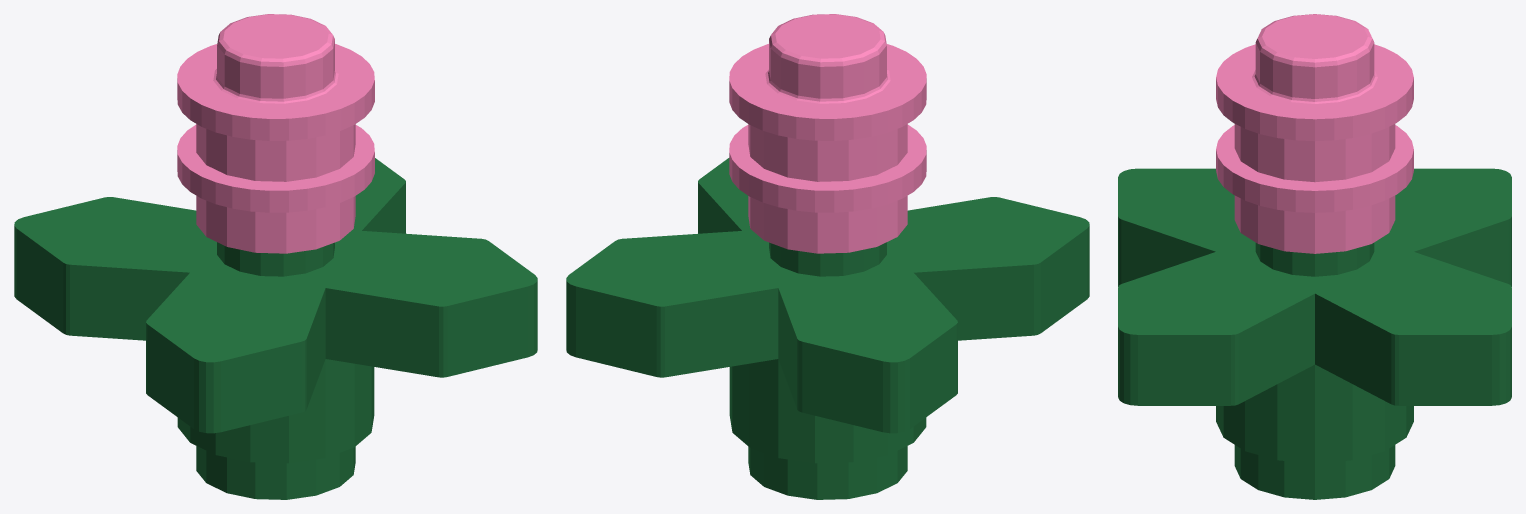
File: flower_pink.glb
3 views of the same model, side by side, from view 1: azimuth 30°, elevation 25°; view 2: azimuth 150°, elevation 25°; view 3: azimuth 270°, elevation 25° (orthographic).
Visible parts, largest first — view 1: flower_pink; view 2: flower_pink; view 3: flower_pink.
Boxes of the visible parts, bbox=[...] form: flower_pink: bbox=[14, 14, 537, 499]; flower_pink: bbox=[566, 14, 1089, 499]; flower_pink: bbox=[1118, 14, 1511, 499].
Bounding box in the file's own units: 0.7562 × 0.9101 × 0.7562.
